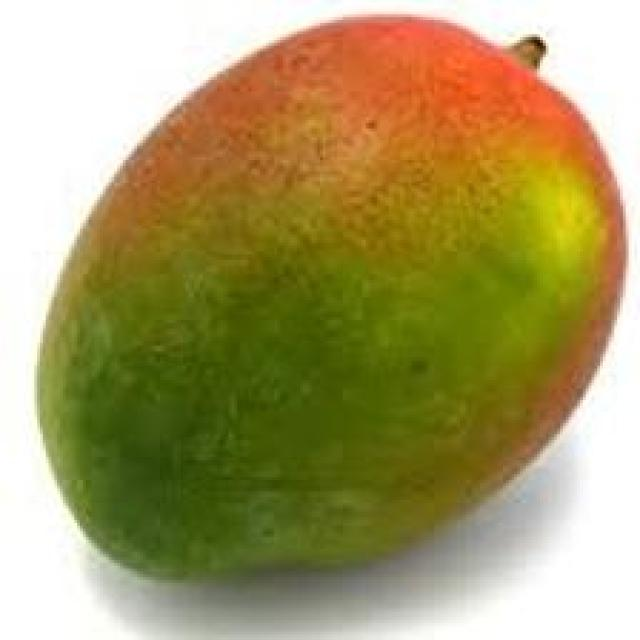Good_Mango: (31, 17, 629, 586)
